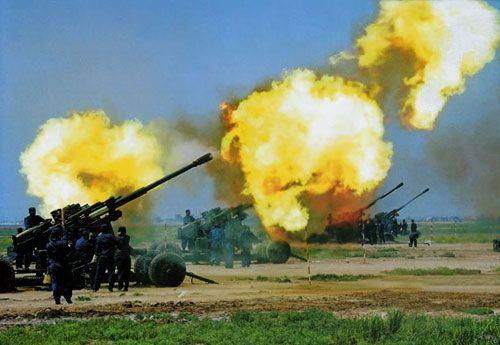MIL_SPG: (0, 155, 211, 292), (133, 243, 211, 287)
